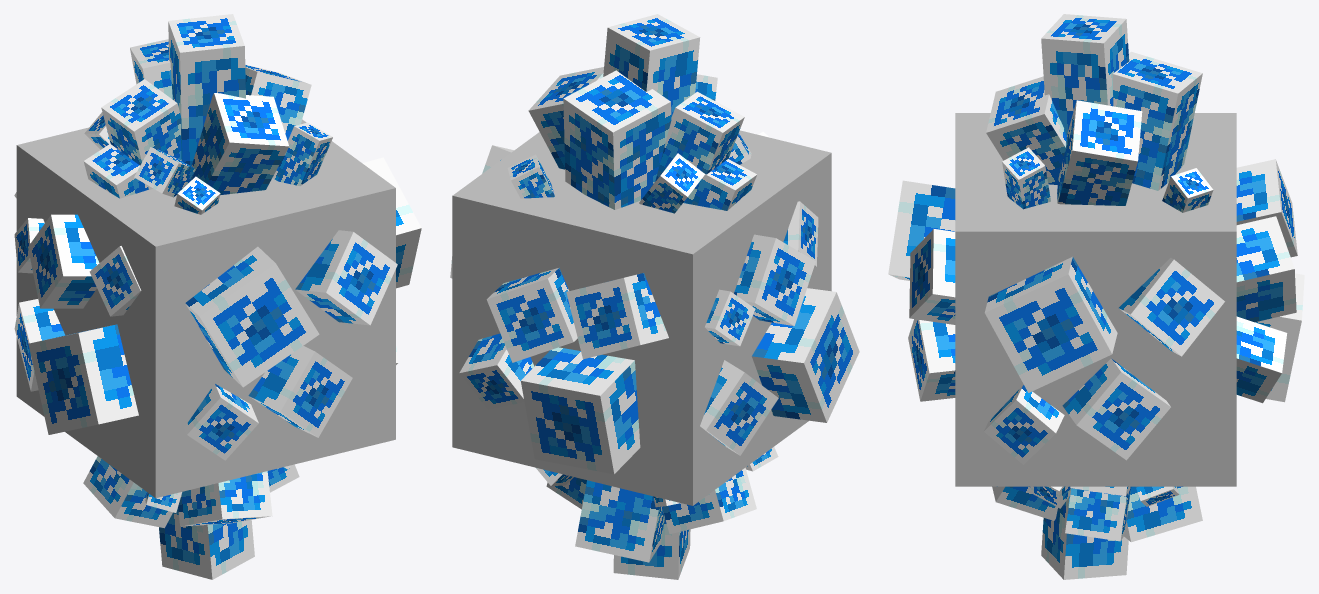
Rendered from sapphire_ore_v1.obj.
3 renders of one model, left to right at view 1: azimuth 30°, elevation 25°; view 2: azimuth 150°, elevation 25°; view 3: azimuth 270°, elevation 25°, orthographic.
Size of the model in its own units: 1.43 by 2.13 by 1.48.
